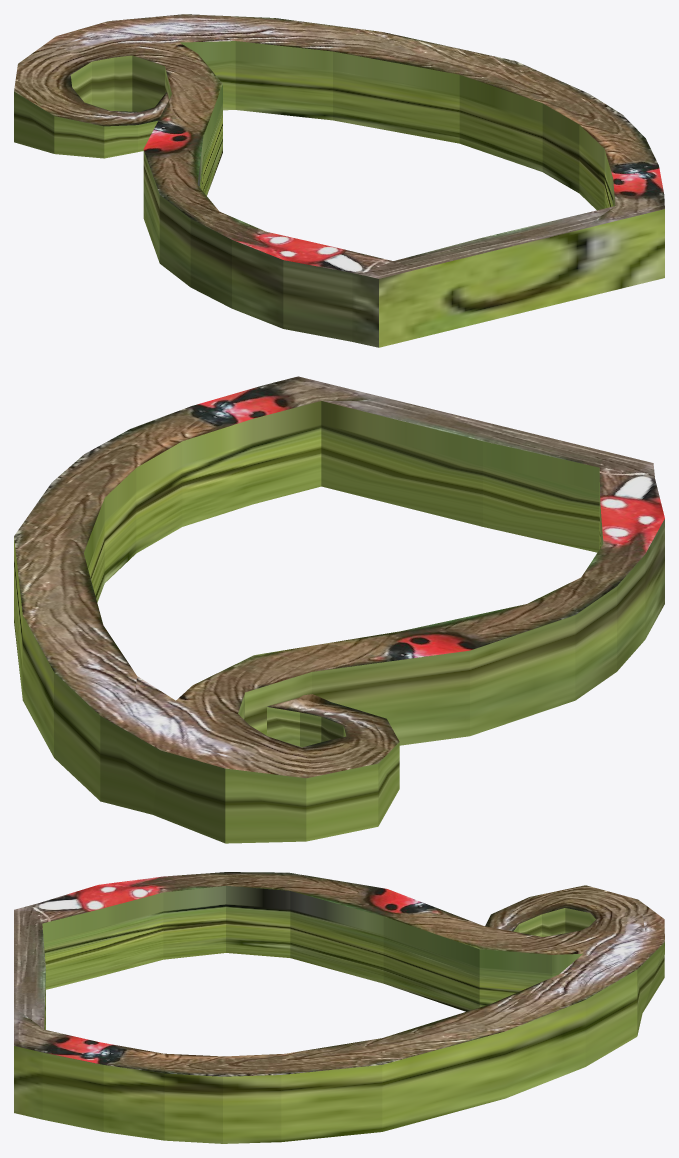
File: Frame_door.obj
3 views of the same model, one above another, from view 1: azimuth 30°, elevation 25°; view 2: azimuth 150°, elevation 25°; view 3: azimuth 270°, elevation 25° (orthographic). The views are drawn at different scales.
Visible parts, largest first — view 1: Frame_Cube; view 2: Frame_Cube; view 3: Frame_Cube.
Part boxes in pixels (<box>): Frame_Cube: <box>14,14,664,347</box>; Frame_Cube: <box>14,376,664,843</box>; Frame_Cube: <box>14,872,664,1143</box>.
Bounding box in the file's own units: 3.51 × 0.5374 × 4.72.
